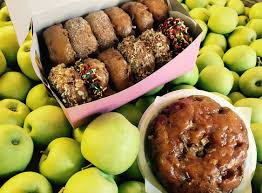apple: (83, 117, 138, 166), (23, 105, 69, 141), (37, 141, 82, 175), (1, 126, 35, 168), (70, 166, 121, 192), (3, 171, 46, 193), (196, 66, 232, 92), (224, 46, 259, 70), (2, 72, 31, 100), (27, 83, 55, 109), (212, 8, 239, 34), (227, 24, 255, 49), (2, 97, 27, 124), (198, 49, 225, 69)
